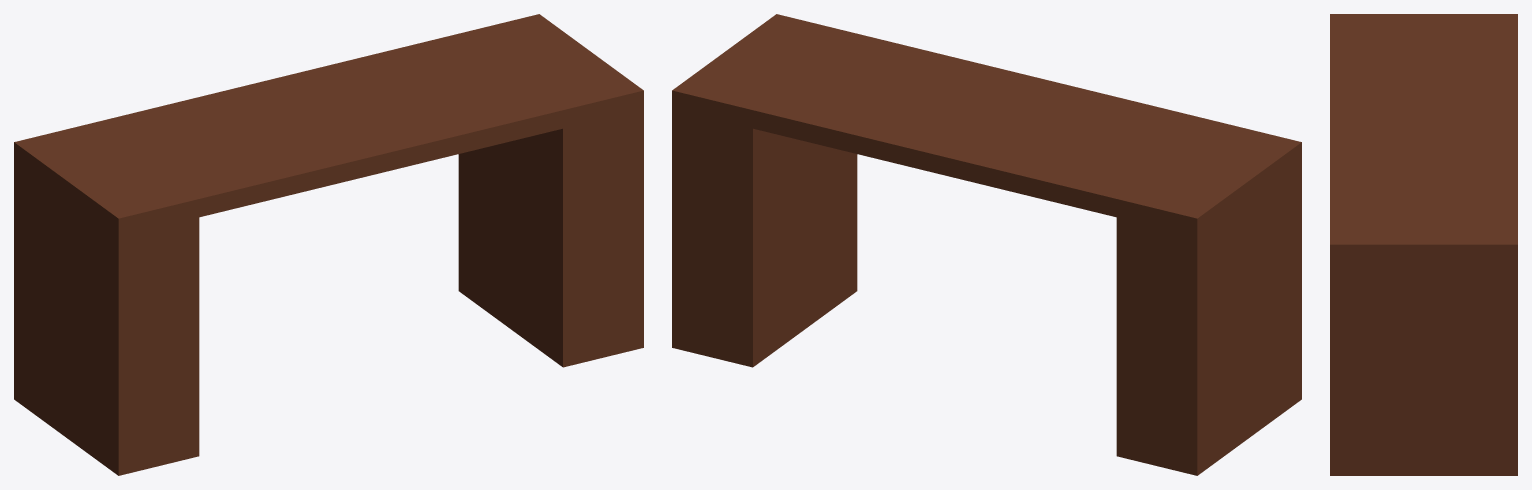
File: sideTable.fbx
3 views of the same model, side by side, from view 1: azimuth 30°, elevation 25°; view 2: azimuth 150°, elevation 25°; view 3: azimuth 270°, elevation 25° (orthographic). The views are drawn at different scales.
Parts seen in each view (by area): view 1: Cube; view 2: Cube; view 3: Cube.
Part boxes in pixels (box(x1,y1,x2,y2)): Cube: box(14, 14, 643, 475); Cube: box(672, 14, 1301, 475); Cube: box(1330, 14, 1517, 475).
Size of the model in its own units: 0.9171 by 0.316 by 0.4293.
